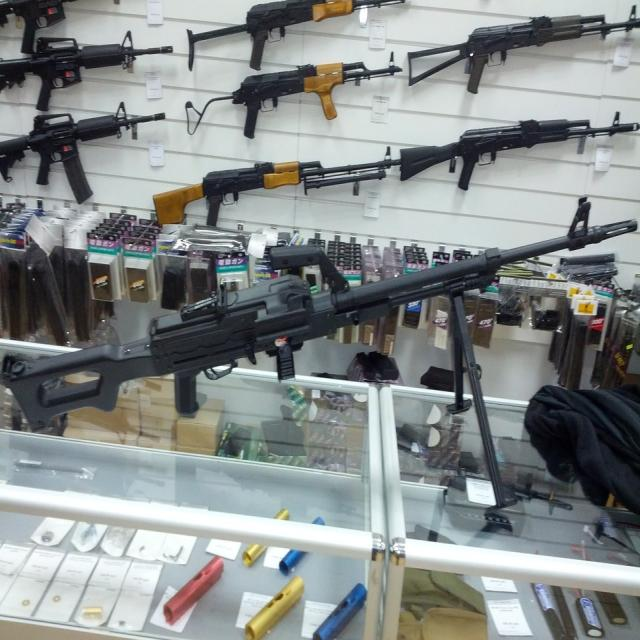firearm: (12, 194, 637, 432), (152, 142, 396, 227), (399, 108, 639, 194), (184, 49, 402, 143), (409, 5, 639, 92), (4, 92, 164, 202), (1, 29, 173, 108)
